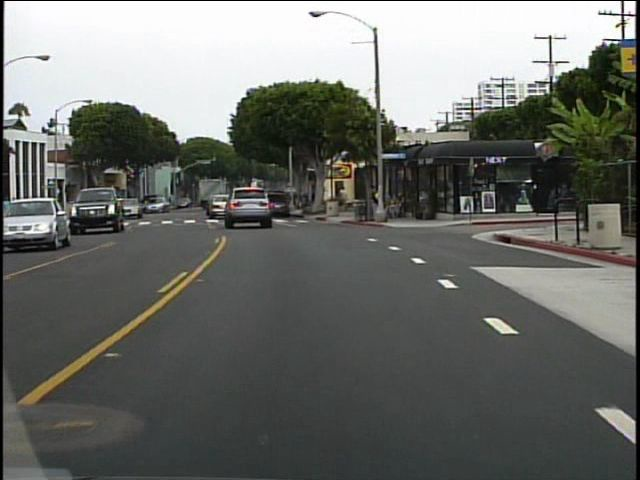person: (364, 186, 381, 221)
